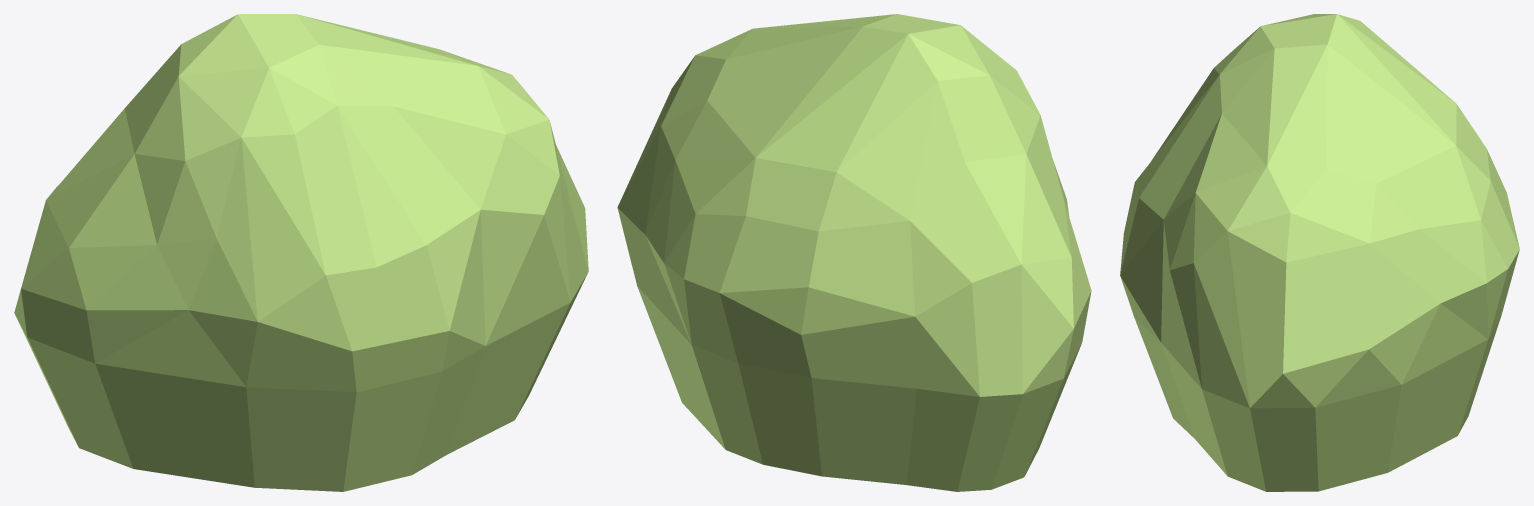
The model's file is Bush_b_l_02.fbx.
3 views of the same model, side by side, from view 1: azimuth 30°, elevation 25°; view 2: azimuth 150°, elevation 25°; view 3: azimuth 270°, elevation 25° (orthographic). The views are drawn at different scales.
Visible parts, largest first — view 1: Bush_b_l_02; view 2: Bush_b_l_02; view 3: Bush_b_l_02.
Boxes of the visible parts, box(x1,y1,x2,y2) form: Bush_b_l_02: box(14, 14, 588, 491); Bush_b_l_02: box(617, 14, 1091, 491); Bush_b_l_02: box(1120, 14, 1519, 491).
Bounding box in the file's own units: 3.79 × 2.93 × 2.87.
